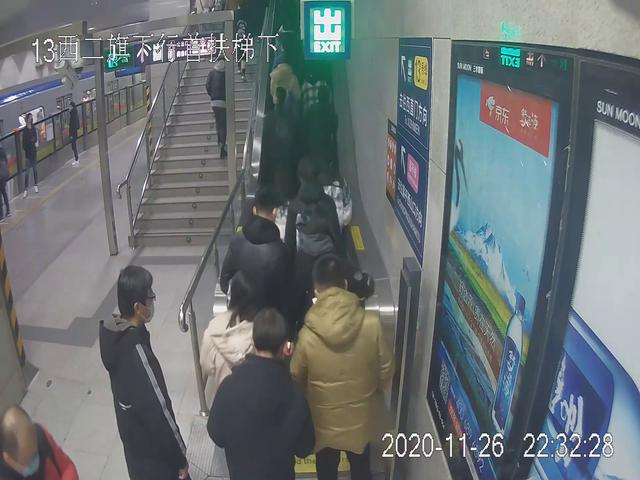person: (282, 251, 398, 480), (100, 267, 194, 480), (212, 306, 320, 479), (225, 190, 296, 344), (206, 53, 236, 163)
